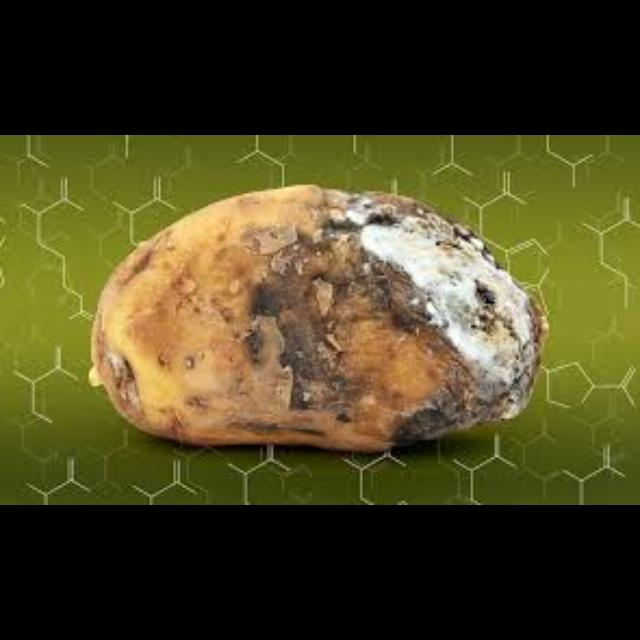Sprouted potato: (86, 185, 544, 449)
